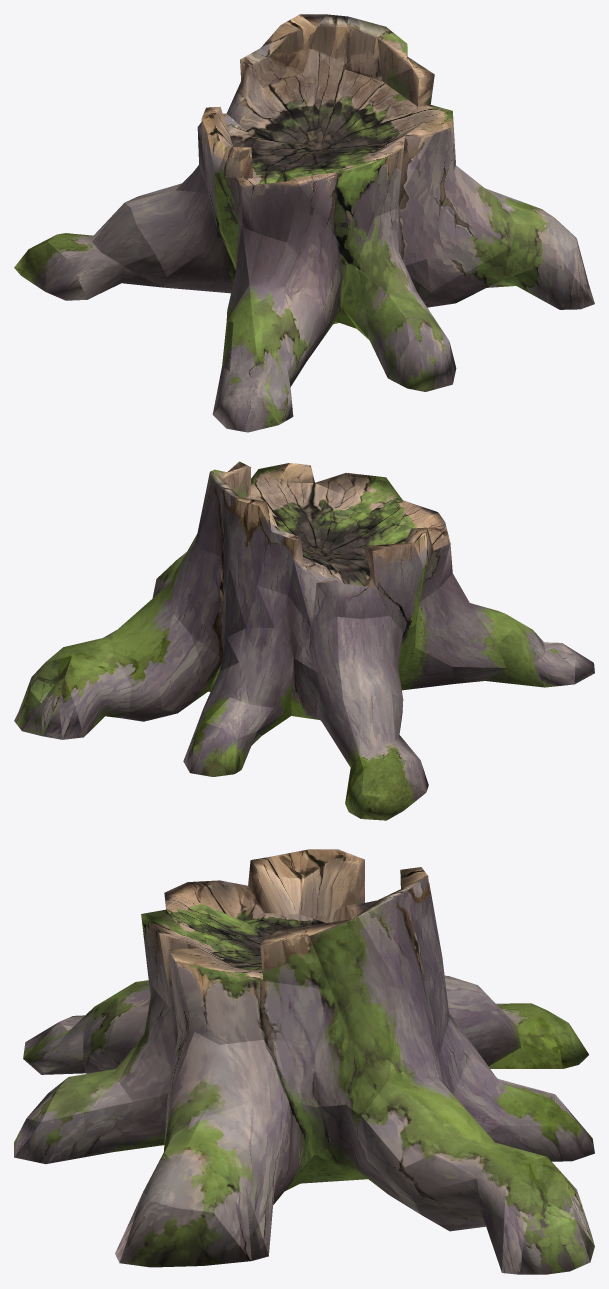
Rendered from source.glb.
3 renders of one model, top to bottom at view 1: azimuth 30°, elevation 25°; view 2: azimuth 150°, elevation 25°; view 3: azimuth 270°, elevation 25°, orthographic. The views are drawn at different scales.
Bounding box in the file's own units: 1 × 0.5703 × 1.
Materials: 1 (1 with a texture image).
